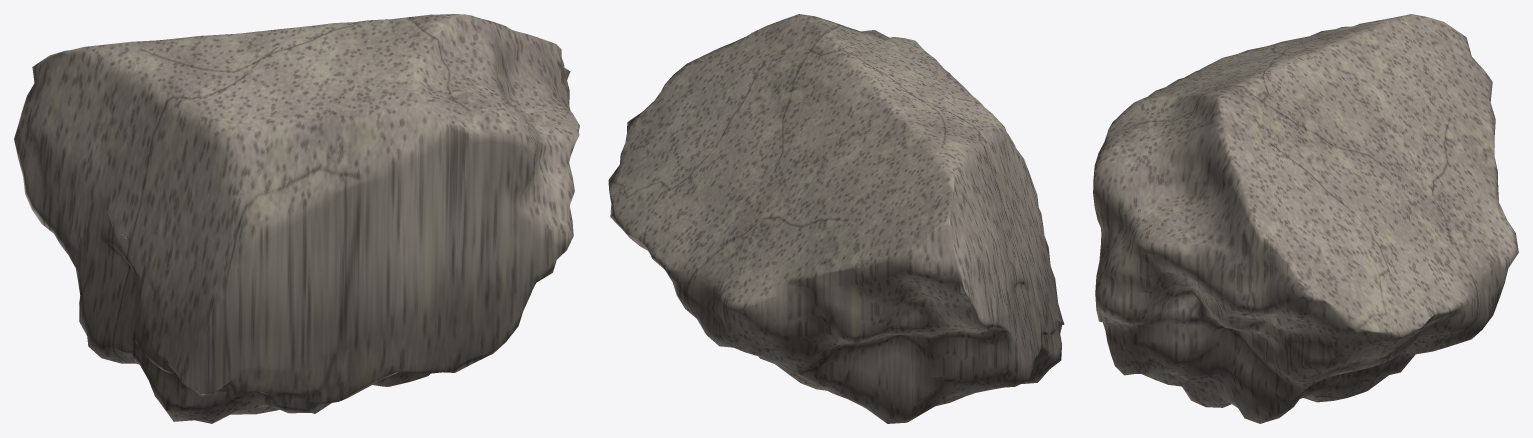
The model's file is rock-granite-2.full.glb.
3 views of the same model, side by side, from view 1: azimuth 30°, elevation 25°; view 2: azimuth 150°, elevation 25°; view 3: azimuth 270°, elevation 25° (orthographic). The views are drawn at different scales.
Parts seen in each view (by area): view 1: model; view 2: model; view 3: model.
Boxes of the visible parts, <box> form: model: <box>14,14,579,423</box>; model: <box>608,14,1064,423</box>; model: <box>1093,14,1518,423</box>.
Bounding box in the file's own units: 1 × 0.7535 × 0.8255.
1 material, 1 textured.
